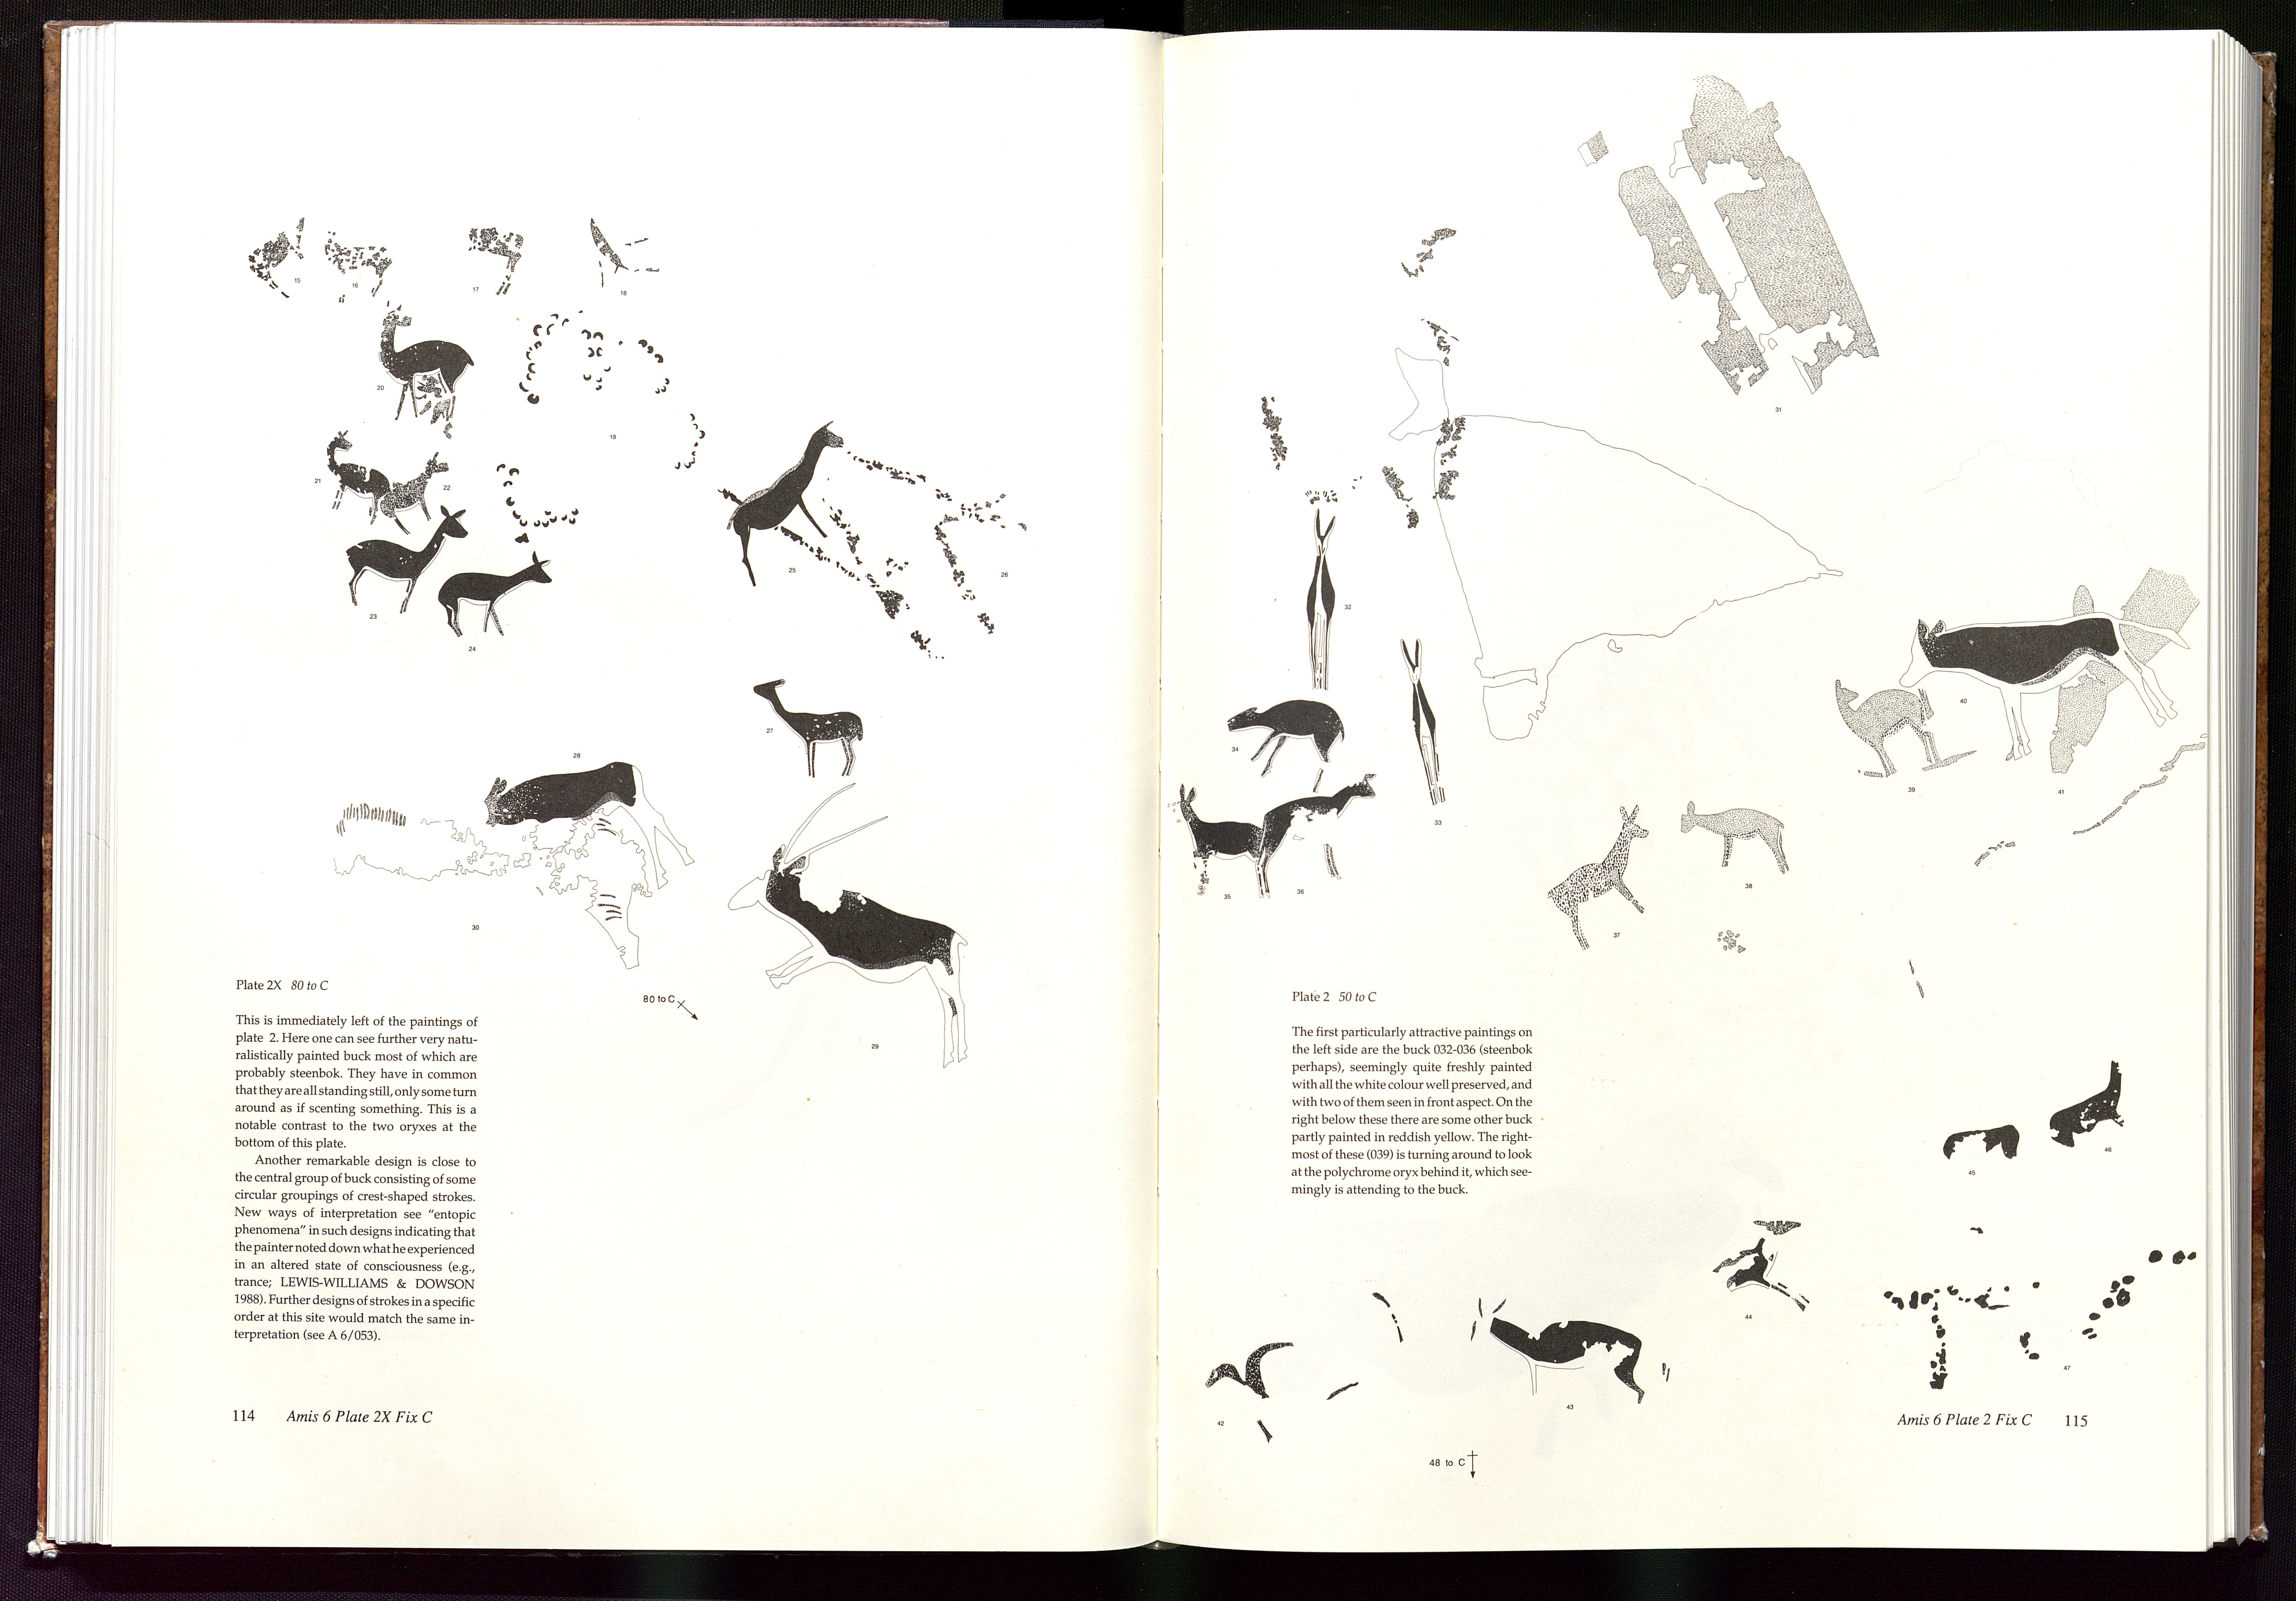animal: (728, 782, 968, 1068), (1896, 613, 2190, 761), (1466, 1292, 1647, 1407), (726, 419, 844, 592), (1544, 805, 1650, 952), (1256, 772, 1377, 899), (344, 505, 469, 615), (377, 302, 475, 438), (1710, 1215, 1827, 1318), (752, 677, 865, 779), (1164, 784, 1265, 896), (1832, 677, 1942, 777), (436, 550, 553, 639), (1228, 700, 1347, 777), (1678, 800, 1790, 873), (1399, 637, 1446, 807), (2047, 1060, 2129, 1151), (241, 213, 311, 302), (326, 429, 391, 526), (1303, 506, 1336, 691), (380, 450, 448, 536), (321, 223, 393, 304), (464, 225, 525, 299), (1940, 1124, 2020, 1161)
